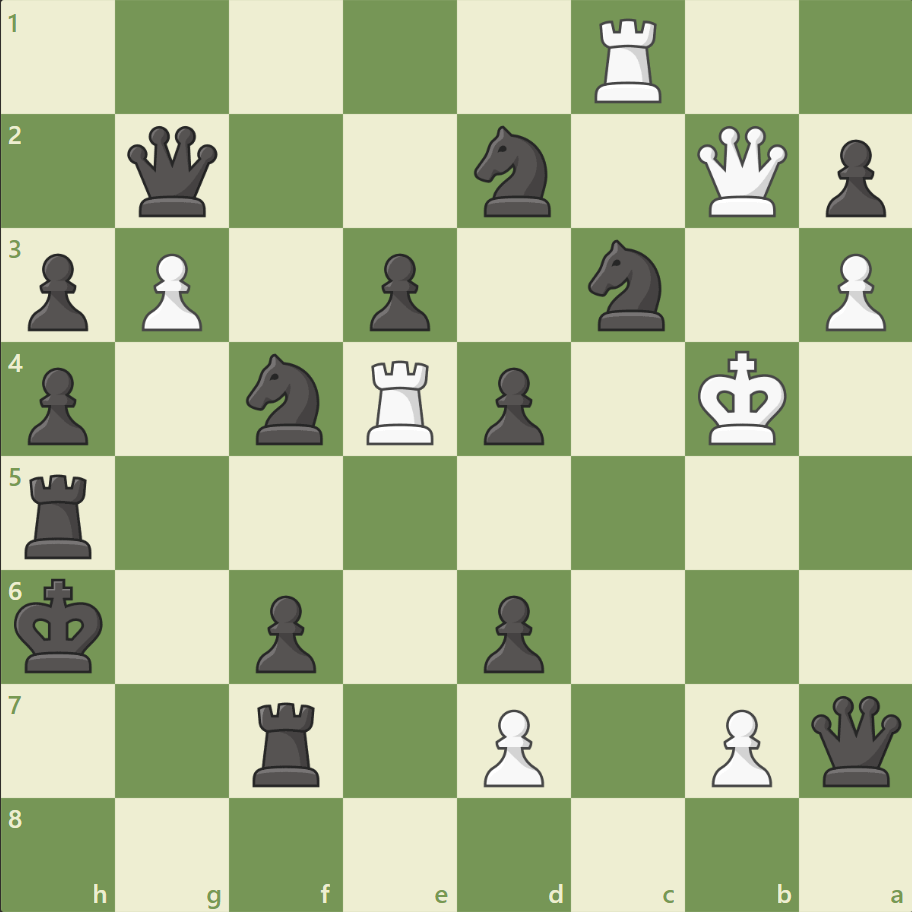K: (692, 344, 792, 452)
P: (701, 700, 776, 791), (474, 700, 549, 791), (133, 246, 208, 337), (815, 246, 889, 337)
Q: (691, 122, 790, 222)
R: (587, 12, 670, 109), (360, 352, 442, 449)
k: (11, 571, 111, 679)
n: (579, 234, 676, 337), (238, 348, 335, 450), (465, 121, 562, 223)
p: (474, 586, 549, 677), (247, 586, 322, 677), (474, 359, 549, 450), (20, 359, 95, 450), (20, 246, 95, 337), (361, 246, 435, 337), (815, 132, 889, 223)
q: (124, 122, 223, 222), (805, 690, 904, 789)
r: (246, 693, 329, 790), (19, 466, 102, 563)
